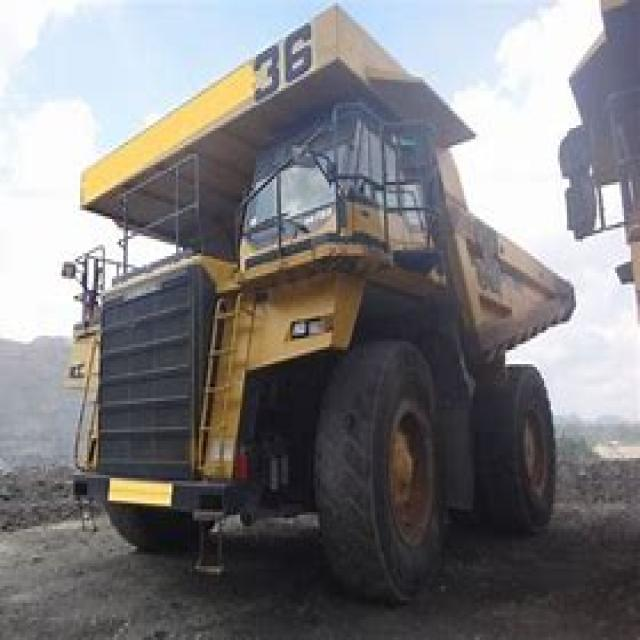dump_truck: (41, 0, 578, 597)
